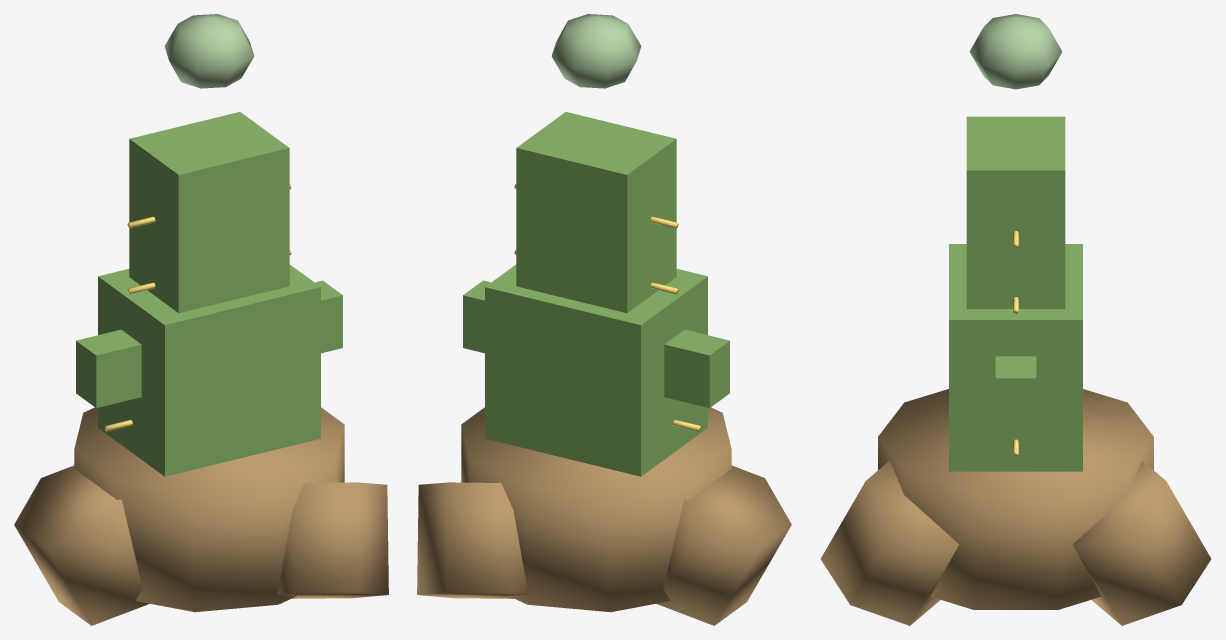
Rendered from dune_cactus.fbx.
3 renders of one model, left to right at view 1: azimuth 30°, elevation 25°; view 2: azimuth 150°, elevation 25°; view 3: azimuth 270°, elevation 25°, orthographic.
Visible parts, largest first — view 1: PLQ_dune_cactus_mature; view 2: PLQ_dune_cactus_mature; view 3: PLQ_dune_cactus_mature.
Part boxes in pixels (<box>): PLQ_dune_cactus_mature: <box>14,14,388,625</box>; PLQ_dune_cactus_mature: <box>417,14,791,625</box>; PLQ_dune_cactus_mature: <box>820,14,1211,625</box>.
Bounding box in the file's own units: 97.14 × 173 × 109.
